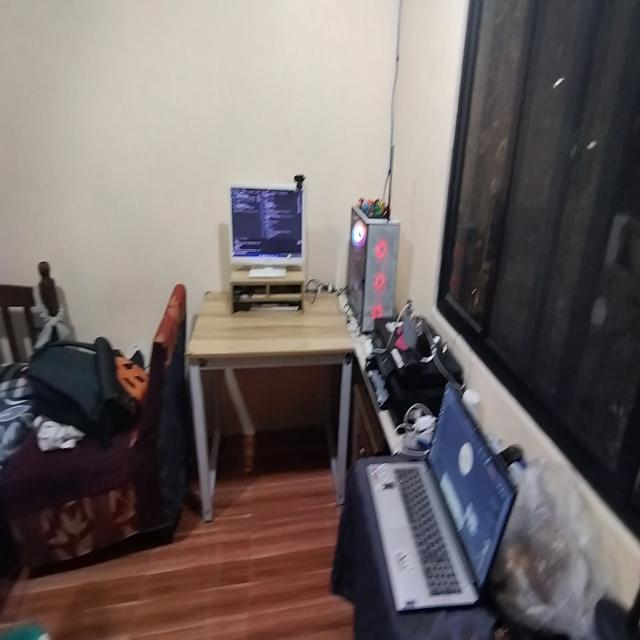table: (182, 279, 362, 521)
